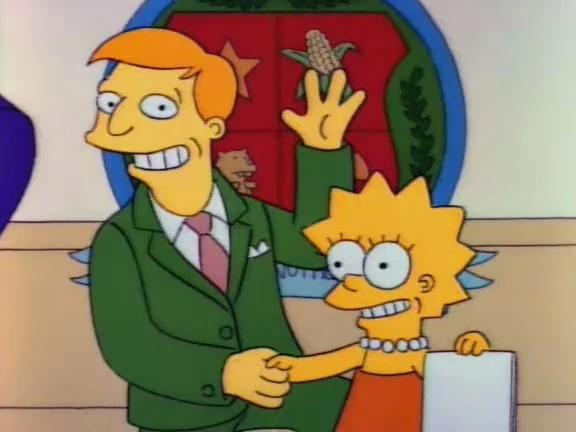Lisa: (292, 169, 511, 421)
